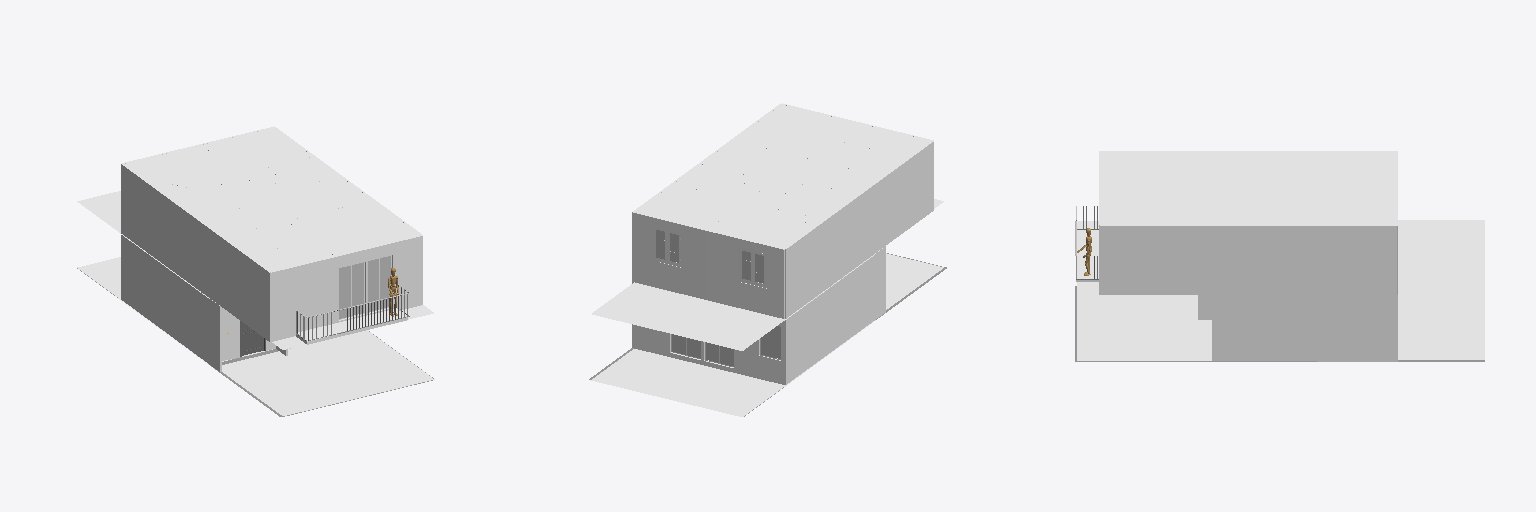
The model's file is casavacia.obj.
3 renders of one model, left to right at view 1: azimuth 30°, elevation 25°; view 2: azimuth 150°, elevation 25°; view 3: azimuth 270°, elevation 25°, orthographic.
Parts seen in each view (by area): view 1: room_62_357, room_61_354, wall_47_280, wall_51_304, wall_35_208, wall_34_202, wall_48_286, wall_45_268, wall_46_274, wall_56_334, room_63_358, room_60_352 (+4 smaller); view 2: room_62_357, room_60_352, room_60_353, wall_47_280, wall_29_172, wall_51_304, wall_30_178, wall_1_4, wall_48_286, wall_46_274, room_61_354, wall_45_268 (+2 smaller); view 3: room_62_357, wall_2_10, room_61_354, wall_50_298, room_60_353, room_60_352, wall_31_184, wall_49_292, wall_44_262, room_63_358, ground_1.
Part boxes in pixels (left/top/right/bottom): room_62_357: left=124, top=128, right=419, bottom=271; room_61_354: left=222, top=330, right=434, bottom=415; wall_47_280: left=154, top=188, right=220, bottom=305; wall_51_304: left=121, top=235, right=186, bottom=347; wall_35_208: left=271, top=257, right=336, bottom=341; wall_34_202: left=337, top=236, right=422, bottom=310; wall_48_286: left=121, top=164, right=153, bottom=256; wall_45_268: left=246, top=256, right=270, bottom=341; wall_46_274: left=221, top=237, right=245, bottom=323; wall_56_334: left=187, top=283, right=208, bottom=363; room_63_358: left=296, top=308, right=407, bottom=344; room_60_352: left=77, top=257, right=120, bottom=299; room_62_357: left=636, top=105, right=930, bottom=248; room_60_352: left=591, top=349, right=785, bottom=416; room_60_353: left=592, top=282, right=785, bottom=350; wall_47_280: left=819, top=177, right=884, bottom=293; wall_29_172: left=705, top=231, right=784, bottom=318; wall_51_304: left=785, top=272, right=851, bottom=384; wall_30_178: left=632, top=212, right=704, bottom=299; wall_1_4: left=632, top=282, right=784, bottom=384; wall_48_286: left=785, top=226, right=818, bottom=318; wall_46_274: left=885, top=158, right=910, bottom=245; room_61_354: left=886, top=253, right=943, bottom=309; wall_45_268: left=911, top=142, right=933, bottom=226; room_62_357: left=1101, top=152, right=1395, bottom=224; wall_2_10: left=1212, top=295, right=1397, bottom=361; room_61_354: left=1077, top=295, right=1211, bottom=360; wall_50_298: left=1100, top=226, right=1197, bottom=294; room_60_353: left=1398, top=220, right=1484, bottom=293; room_60_352: left=1398, top=294, right=1484, bottom=359; wall_31_184: left=1317, top=226, right=1396, bottom=294; wall_49_292: left=1198, top=226, right=1262, bottom=294; wall_44_262: left=1263, top=226, right=1316, bottom=294; room_63_358: left=1076, top=230, right=1098, bottom=281; ground_1: left=1075, top=286, right=1484, bottom=361.
Size of the model in its own units: 612 by 512 by 1401.